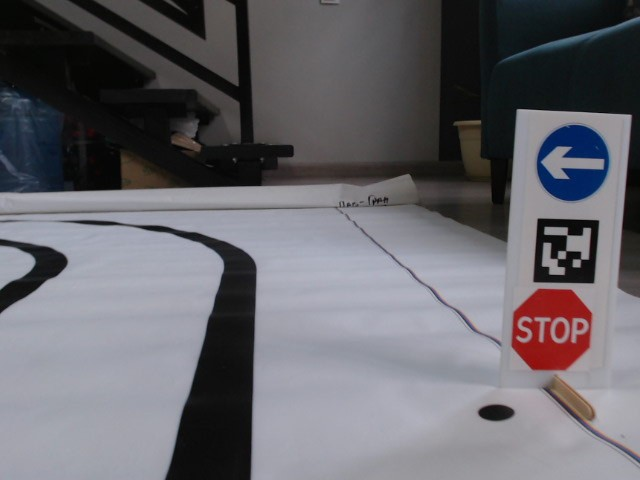Stop: (513, 288, 593, 371)
